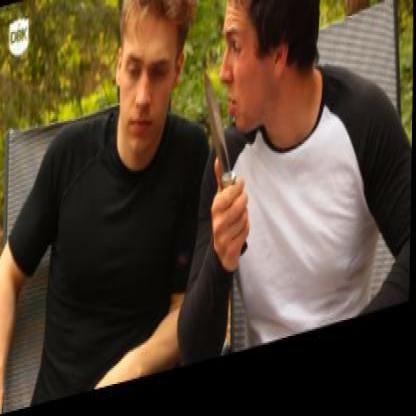knife: (196, 58, 256, 284)
